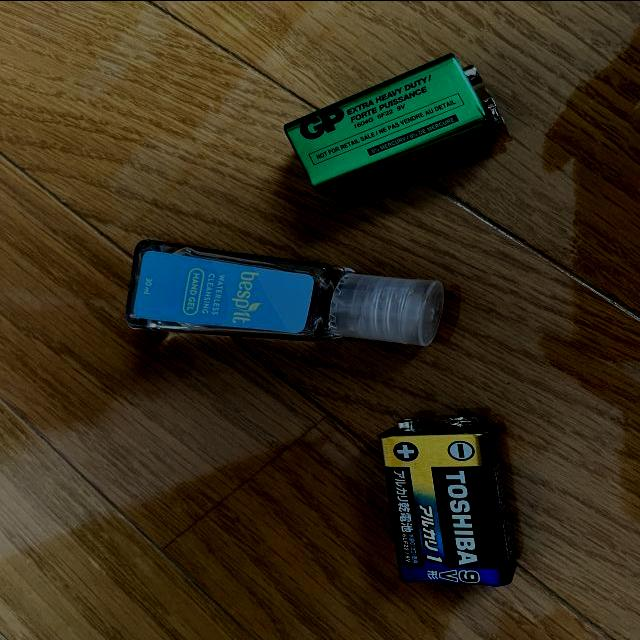9V: (282, 54, 505, 199), (380, 413, 519, 587)
